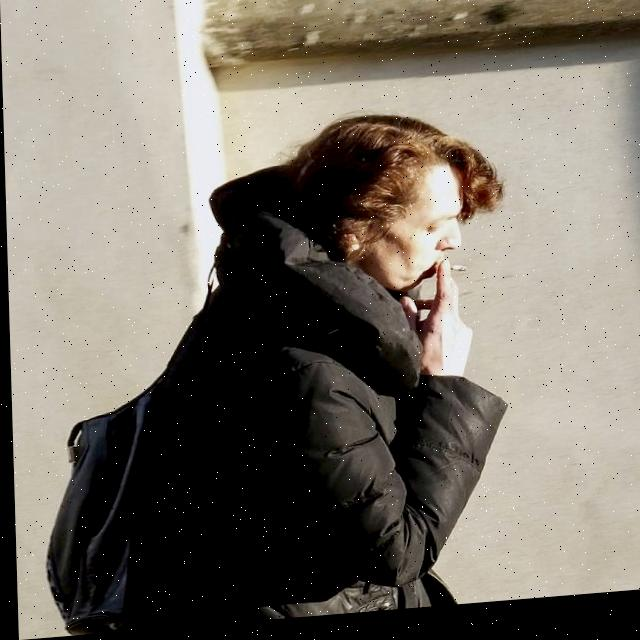cigarette: (436, 266, 466, 281)
